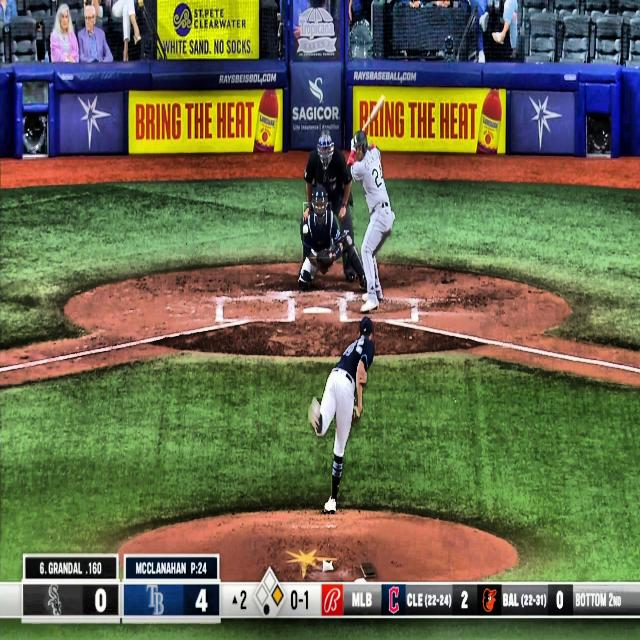baseball: (302, 224, 309, 235)
